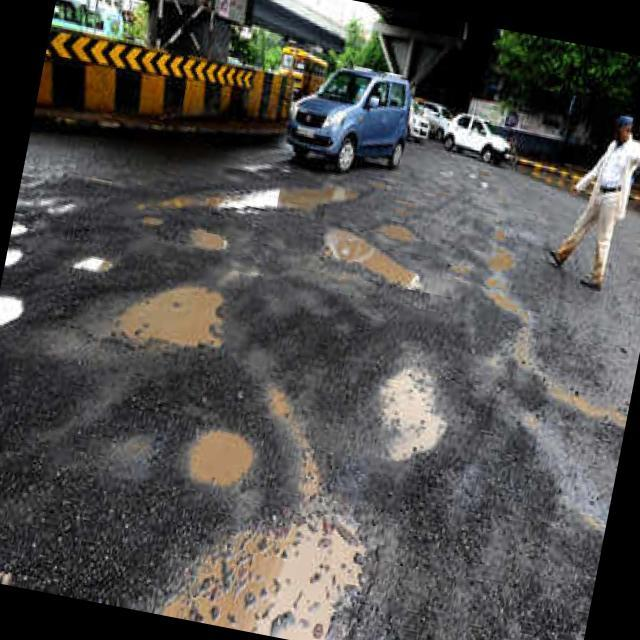Pothole: (444, 219, 640, 460), (145, 457, 375, 640), (90, 268, 248, 378), (298, 219, 456, 326), (364, 352, 456, 494), (164, 393, 260, 503), (373, 207, 440, 256), (60, 250, 134, 290), (0, 289, 29, 349)
